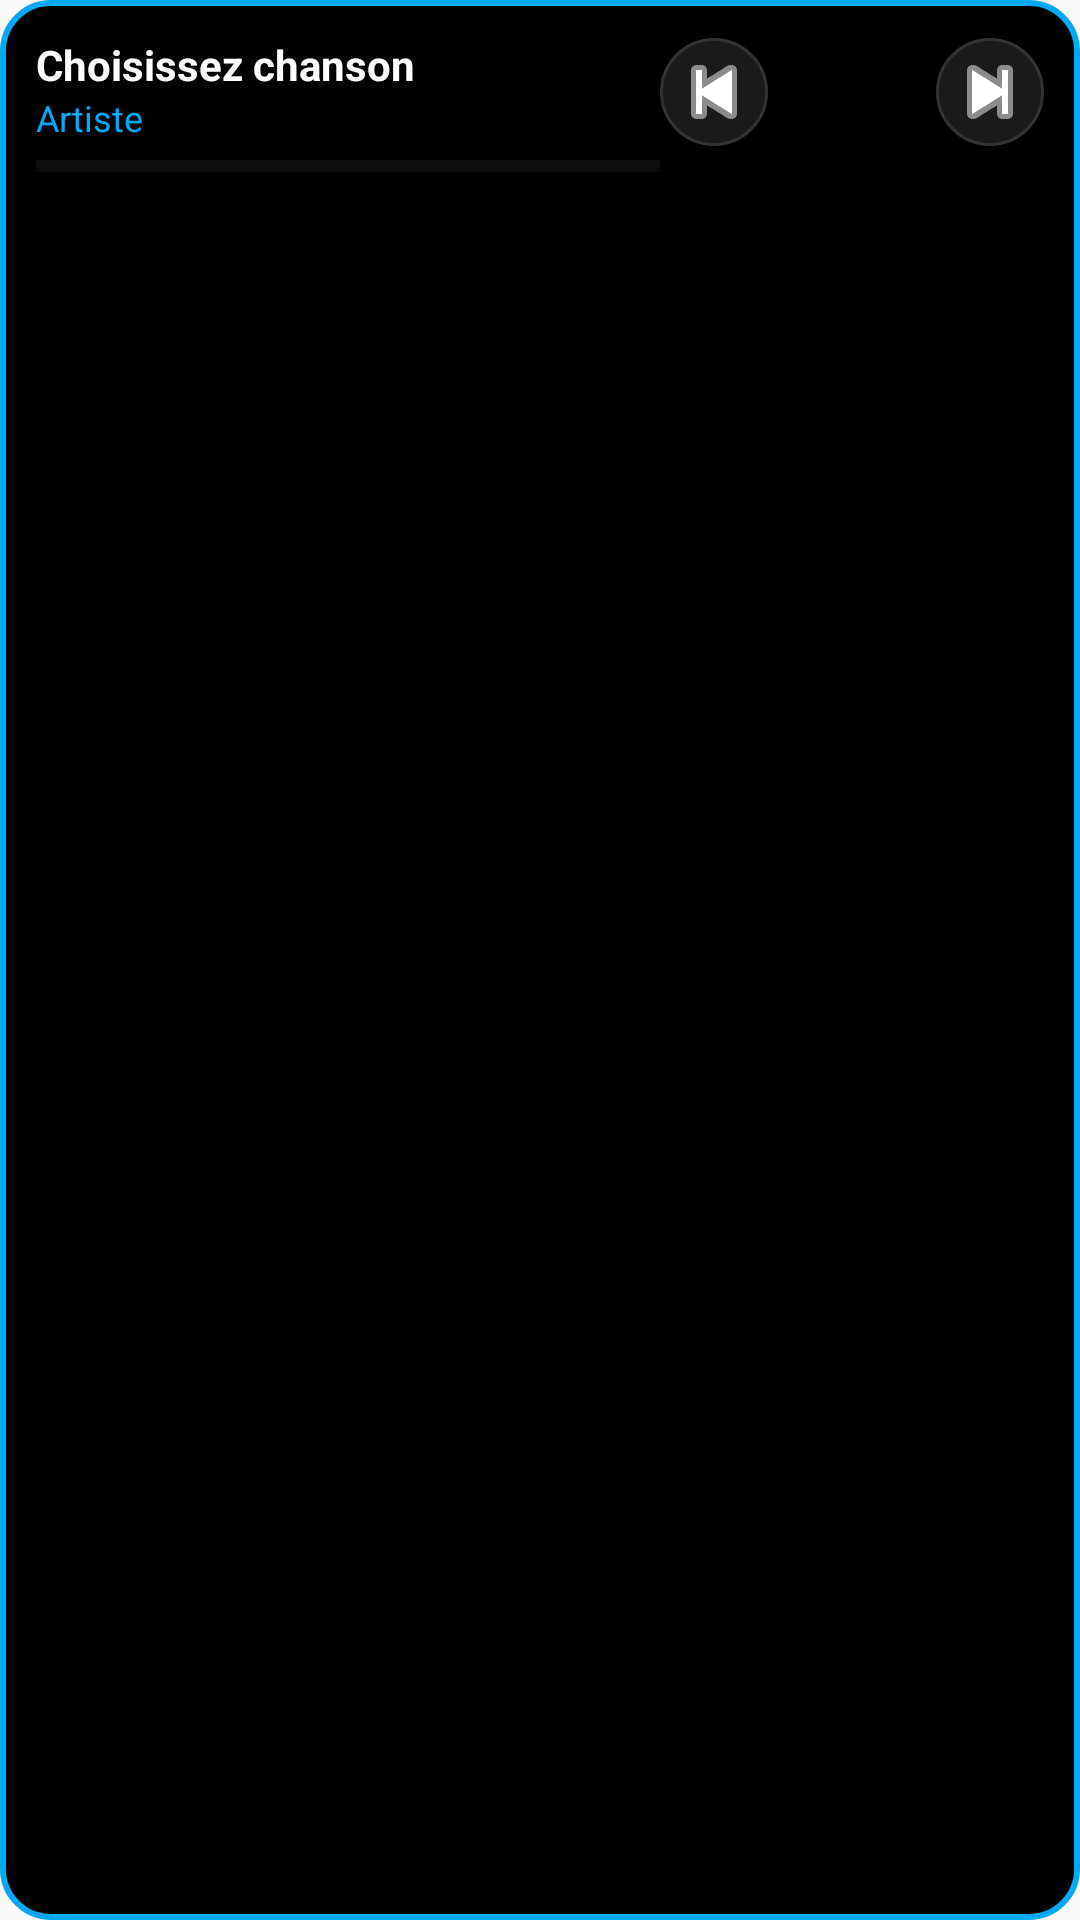

Named icons in this screenshot (1080x1920) and their centers, (x,y):
next: (990,92)
previous: (714,92)
